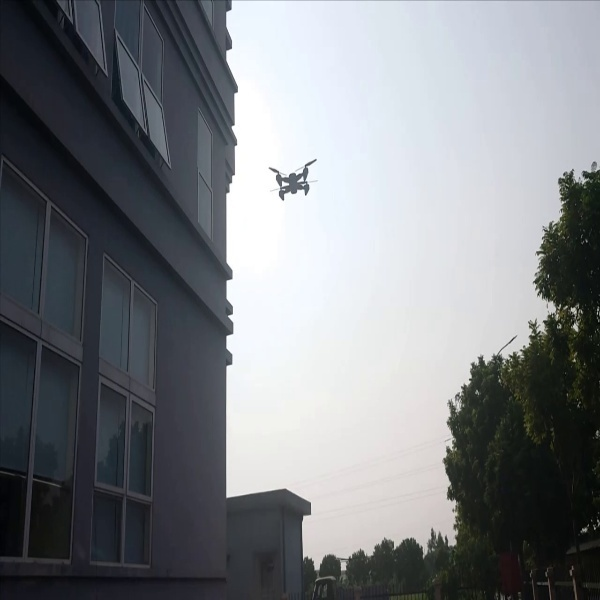drone: (257, 158, 325, 207)
